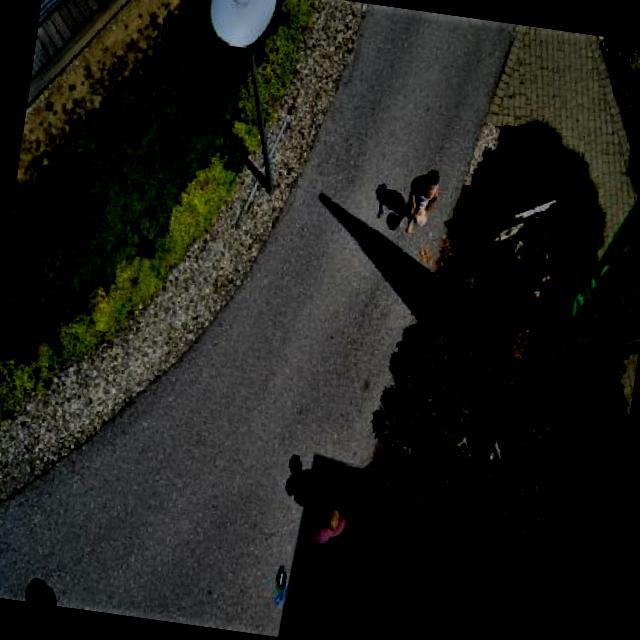Person: (385, 154, 452, 244), (290, 486, 357, 550)
